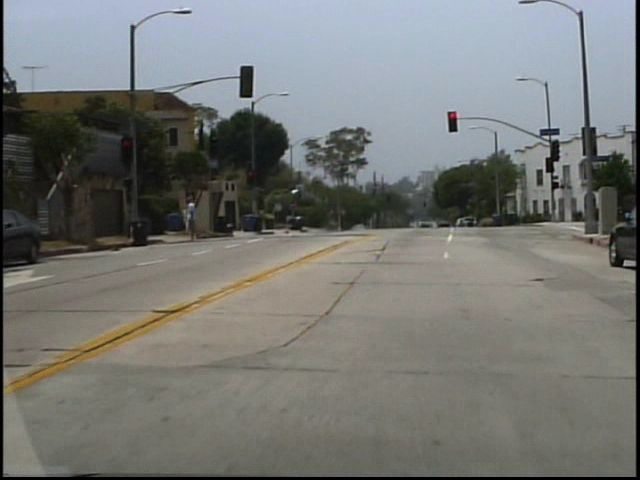person: (189, 196, 207, 242), (187, 203, 197, 238)
